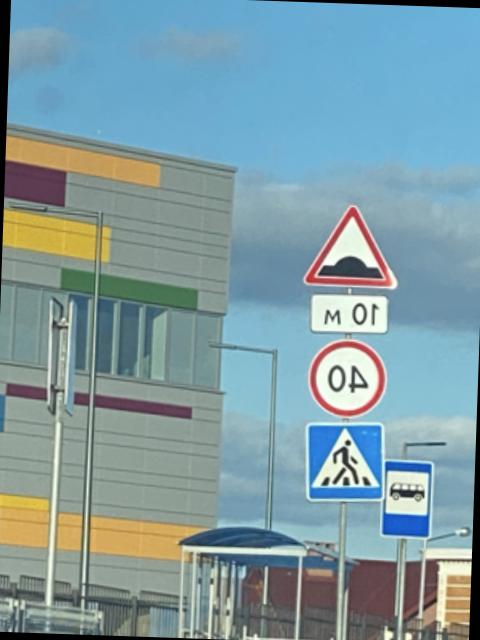crosswalk-sign: (305, 420, 389, 506)
